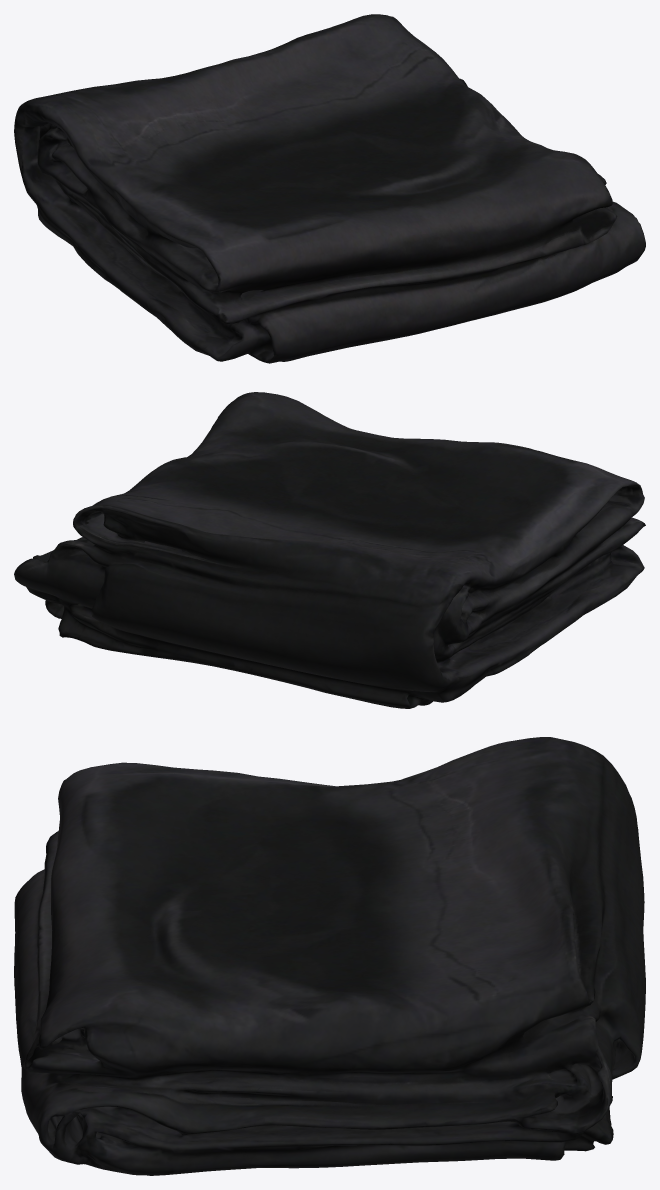
The model's file is single_folded_laundry_1108151534_refine.fbx.
The picture shows the model from 3 angles, top to bottom: view 1: azimuth 30°, elevation 25°; view 2: azimuth 150°, elevation 25°; view 3: azimuth 270°, elevation 25°; orthographic projection. The views are drawn at different scales.
Visible parts, largest first — view 1: Mesh_0; view 2: Mesh_0; view 3: Mesh_0.
Part boxes in pixels (bbox=[...]): Mesh_0: bbox=[14, 14, 645, 363]; Mesh_0: bbox=[14, 392, 645, 708]; Mesh_0: bbox=[14, 737, 645, 1175].
Size of the model in its own units: 200 by 60.17 by 190.
Materials: 1 (1 with a texture image).
